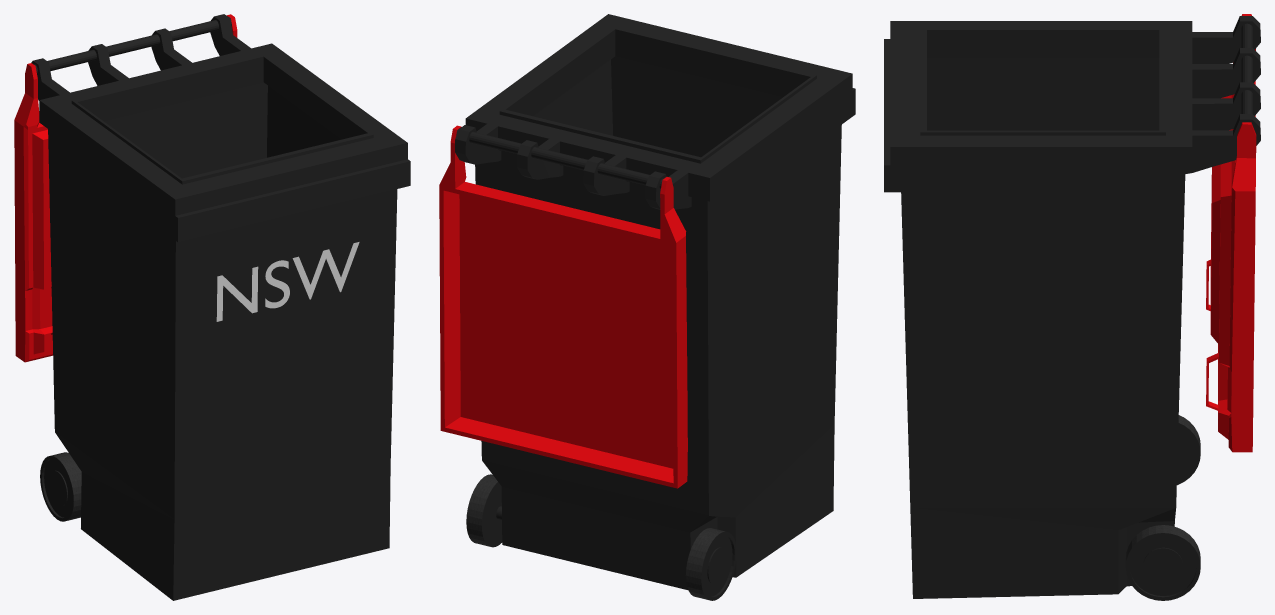
File: Bin.fbx
3 renders of one model, left to right at view 1: azimuth 30°, elevation 25°; view 2: azimuth 150°, elevation 25°; view 3: azimuth 270°, elevation 25°, orthographic. The views are drawn at different scales.
Parts seen in each view (by area): view 1: Bin; view 2: Bin; view 3: Bin.
Boxes of the visible parts, <box> form: Bin: <box>14,14,410,600</box>; Bin: <box>439,14,855,600</box>; Bin: <box>884,14,1260,600</box>.
Bounding box in the file's own units: 59.54 × 104 × 75.17.
